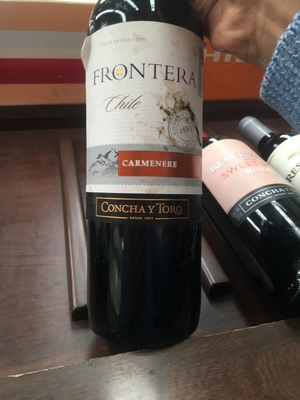frontera carmenere: (82, 6, 212, 359)
